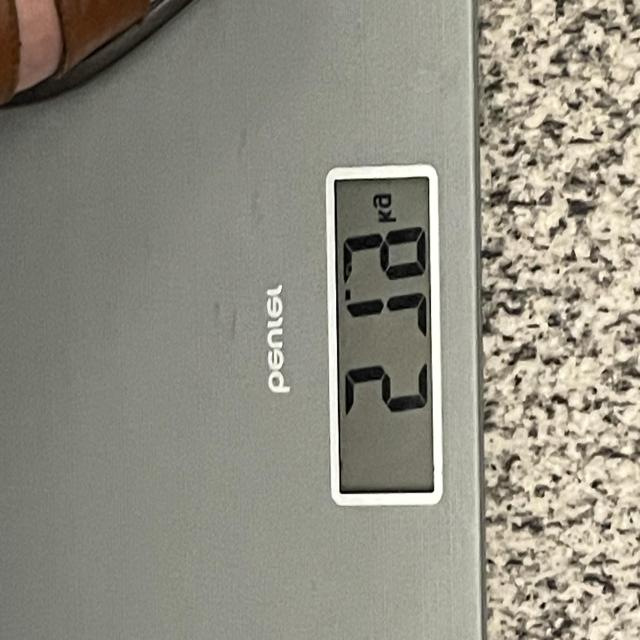ws: (327, 167, 440, 506)
